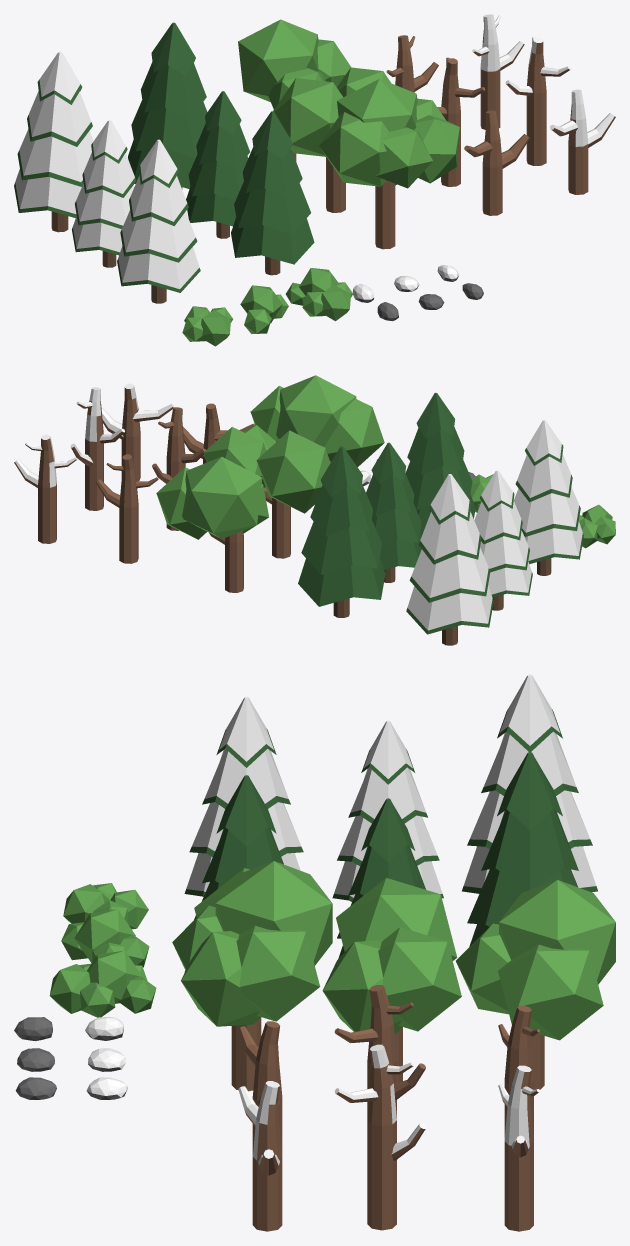
File: low_poly_forest_assets.glb
The picture shows the model from 3 angles, top to bottom: view 1: azimuth 30°, elevation 25°; view 2: azimuth 150°, elevation 25°; view 3: azimuth 270°, elevation 25°; orthographic projection. The views are drawn at different scales.
Parts seen in each view (by area): view 1: Circle.003, Circle.010, Circle.001, Circle, Circle.011, Circle.007, Circle.009, Circle.008, Circle.006, Circle.013, Circle.014, Circle.002 (+6 smaller); view 2: Circle.011, Circle.010, Circle.007, Circle.006, Circle.003, Circle.001, Circle.009, Circle.008, Circle, Circle.013, Circle.005, Circle.012 (+5 smaller); view 3: Circle.003, Circle.007, Circle.006, Circle.011, Circle.010, Circle.001, Circle.009, Circle.013, Icosphere.005, Circle, Circle.012, Circle.014 (+12 smaller).
Part boxes in pixels (left/top/right/bottom): Circle.003: left=319, top=78, right=459, bottom=249; Circle.010: left=14, top=51, right=93, bottom=232; Circle.001: left=117, top=139, right=200, bottom=303; Circle: left=231, top=111, right=314, bottom=275; Circle.011: left=128, top=22, right=207, bottom=189; Circle.007: left=238, top=19, right=350, bottom=161; Circle.009: left=72, top=120, right=136, bottom=267; Circle.008: left=186, top=91, right=249, bottom=238; Circle.006: left=273, top=67, right=390, bottom=212; Circle.013: left=505, top=36, right=570, bottom=165; Circle.014: left=550, top=89, right=615, bottom=194; Circle.002: left=464, top=110, right=529, bottom=215; Circle.011: left=298, top=446, right=385, bottom=617; Circle.010: left=406, top=474, right=493, bottom=645; Circle.007: left=156, top=456, right=268, bottom=592; Circle.006: left=203, top=425, right=330, bottom=558; Circle.003: left=250, top=375, right=384, bottom=466; Circle.001: left=513, top=420, right=583, bottom=575; Circle.009: left=474, top=470, right=532, bottom=610; Circle.008: left=366, top=442, right=421, bottom=582; Circle: left=405, top=392, right=475, bottom=536; Circle.013: left=70, top=387, right=124, bottom=510; Circle.005: left=95, top=454, right=158, bottom=563; Circle.012: left=14, top=434, right=76, bottom=543; Circle.003: left=172, top=861, right=332, bottom=1091; Circle.007: left=456, top=880, right=615, bottom=1089; Circle.006: left=322, top=878, right=461, bottom=1082; Circle.011: left=467, top=752, right=578, bottom=946; Circle.010: left=462, top=674, right=597, bottom=893; Circle.001: left=184, top=696, right=303, bottom=896; Circle.009: left=332, top=720, right=443, bottom=901; Circle.013: left=334, top=1044, right=425, bottom=1230; Icosphere.005: left=49, top=950, right=156, bottom=1017; Circle: left=185, top=775, right=283, bottom=971; Circle.012: left=498, top=1065, right=539, bottom=1231; Circle.014: left=238, top=1081, right=282, bottom=1231.
Bounding box in the file's own units: 37.39 × 12.63 × 26.91.
